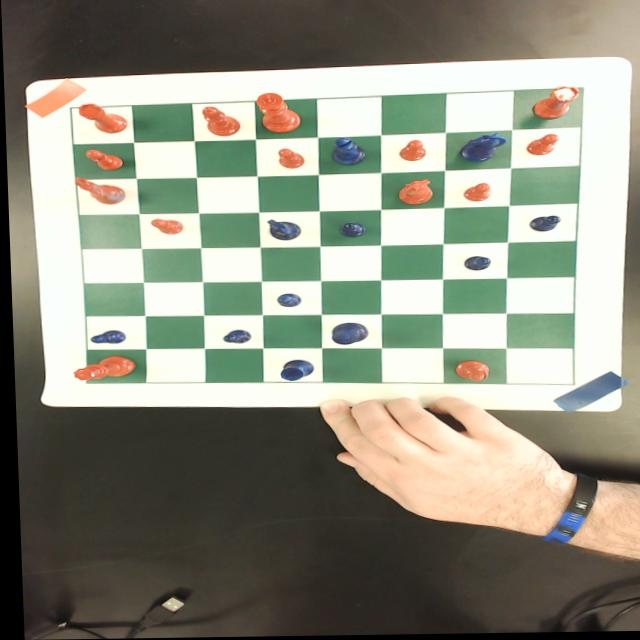B: (327, 138, 367, 167)
K: (326, 323, 365, 346)
N: (452, 133, 511, 165), (261, 219, 302, 245)
P: (525, 217, 560, 235), (86, 331, 124, 345), (336, 223, 365, 239), (218, 330, 248, 345), (460, 258, 489, 272), (274, 294, 299, 308)
R: (277, 361, 311, 382)
b: (199, 106, 240, 137), (451, 361, 488, 384)
k: (254, 93, 298, 135)
n: (71, 177, 128, 205), (392, 181, 433, 207)
p: (82, 148, 123, 171), (522, 136, 559, 157), (147, 218, 182, 237), (396, 141, 424, 163), (275, 149, 304, 170), (460, 184, 490, 203)
q: (68, 356, 133, 381)
r: (530, 87, 583, 122), (75, 104, 125, 134)
